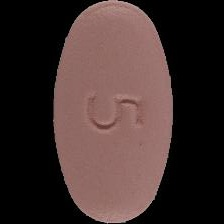0003-0894: (0, 0, 224, 224)
